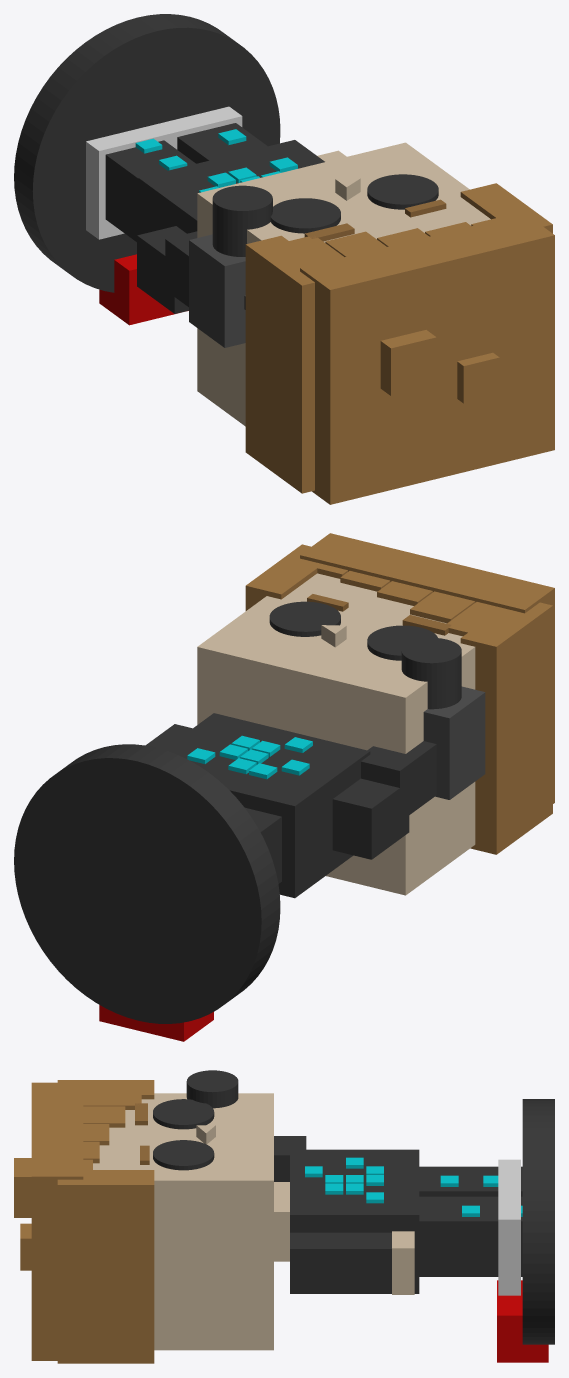
File: elvison_color.glb
3 views of the same model, one above another, from view 1: azimuth 30°, elevation 25°; view 2: azimuth 150°, elevation 25°; view 3: azimuth 270°, elevation 25° (orthographic). The views are drawn at different scales.
Parts seen in each view (by area): view 1: world; view 2: world; view 3: world.
Part boxes in pixels (x1=…): world: x1=14, y1=14, x2=554, y2=504; world: x1=14, y1=533, x2=554, y2=1041; world: x1=14, y1=1070, x2=554, y2=1363.
Size of the model in its own units: 56.24 by 57.67 by 120.
